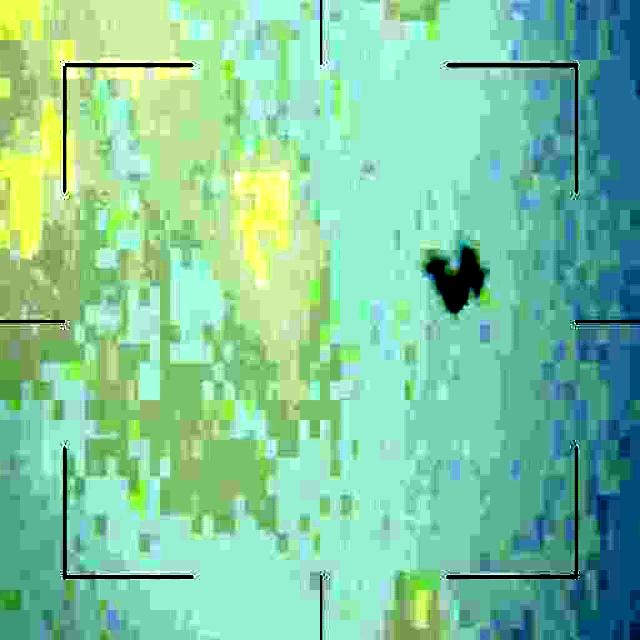bird: (421, 244, 485, 322)
